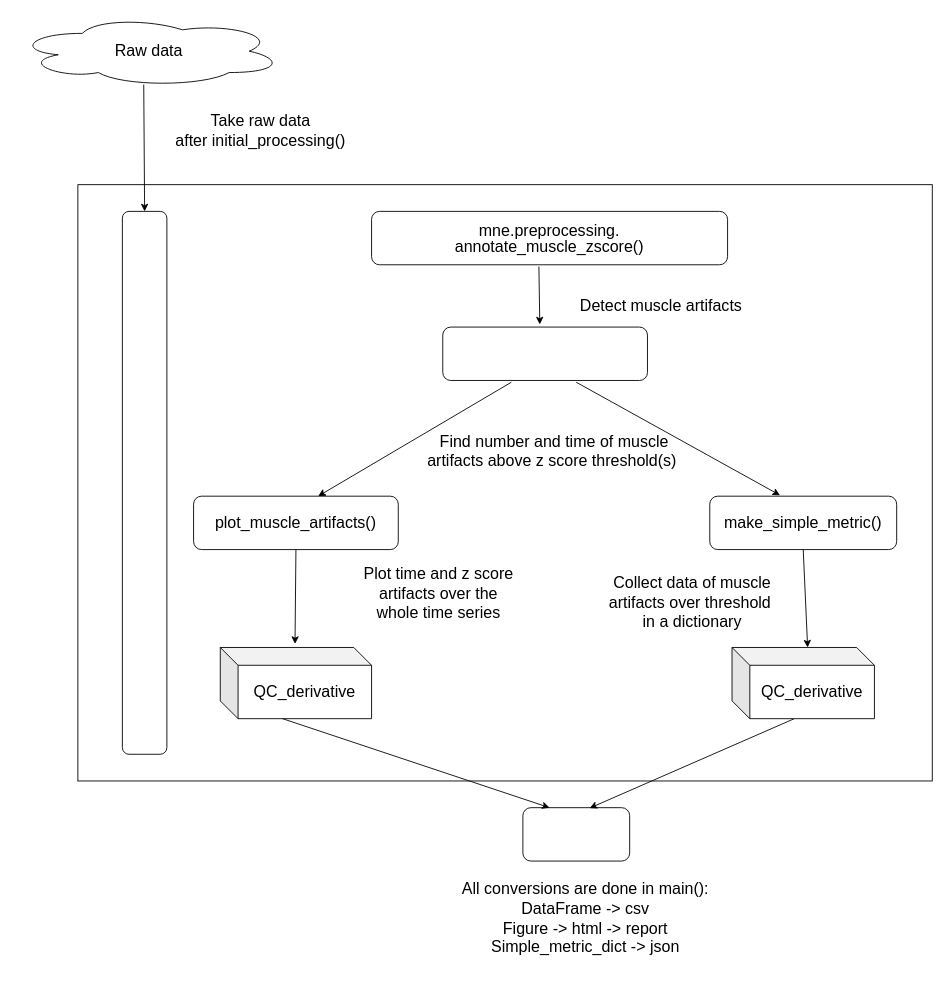
This 948x992 diagram has some shape labels left out. Each missing label, with the box of its shape:
find_peaks(): (442, 326, 647, 380)
main(): (522, 807, 630, 861)
MUSCLE_meg_qc(): (121, 210, 167, 754)
